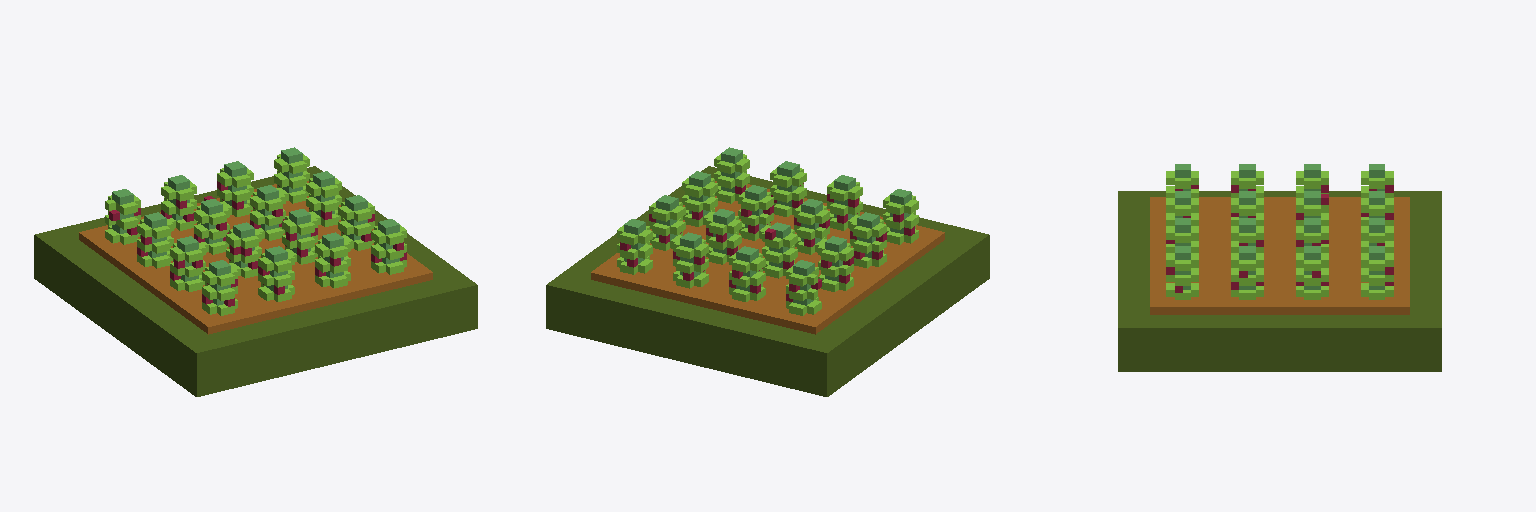
The picture shows the model from 3 angles: view 1: azimuth 30°, elevation 25°; view 2: azimuth 150°, elevation 25°; view 3: azimuth 270°, elevation 25°; orthographic projection.
Parts seen in each view (by area): view 1: object 1; view 2: object 1; view 3: object 1.
Part boxes in pixels (bbox=[...]): object 1: bbox=[34, 147, 477, 396]; object 1: bbox=[546, 147, 989, 396]; object 1: bbox=[1118, 164, 1441, 371].
Size of the model in its own units: 4 by 1.3 by 4.
1 materials, 1 textured.